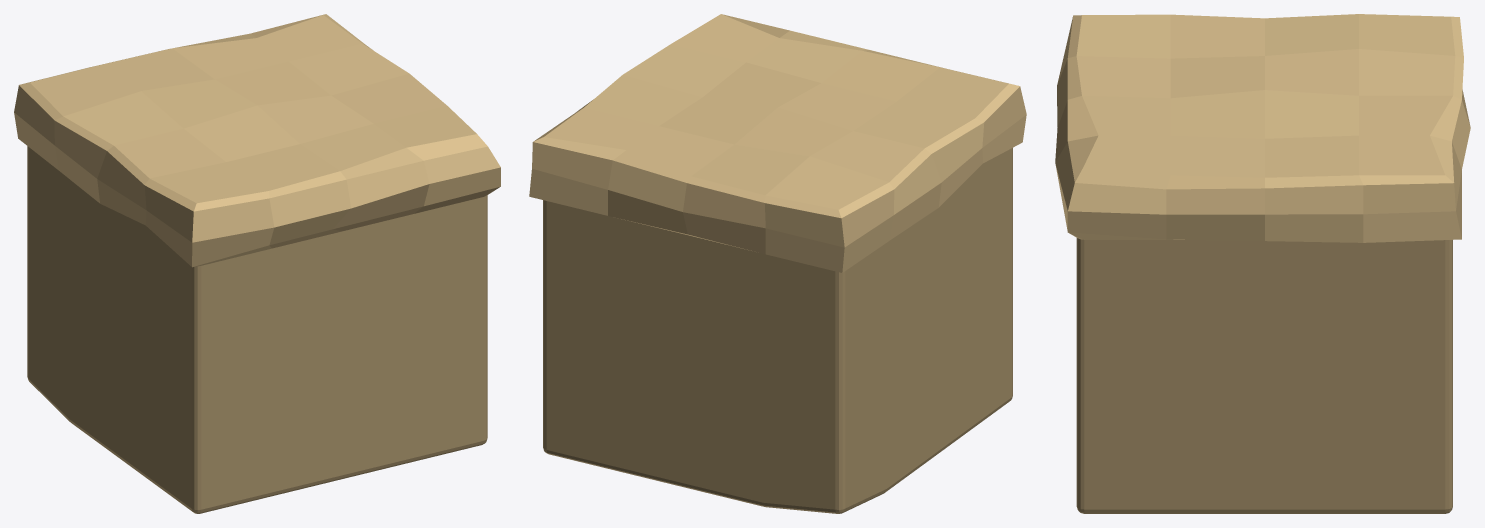
File: env_suelo_arena.fbx
The picture shows the model from 3 angles, left to right: view 1: azimuth 30°, elevation 25°; view 2: azimuth 150°, elevation 25°; view 3: azimuth 270°, elevation 25°; orthographic projection. The views are drawn at different scales.
Parts seen in each view (by area): view 1: env_suelo_arena; view 2: env_suelo_arena; view 3: env_suelo_arena.
Part boxes in pixels (left/top/right/bottom): env_suelo_arena: left=14, top=14, right=500, bottom=513; env_suelo_arena: left=529, top=14, right=1026, bottom=513; env_suelo_arena: left=1055, top=14, right=1470, bottom=513.
Bounding box in the file's own units: 7.9 × 7.41 × 8.01.
